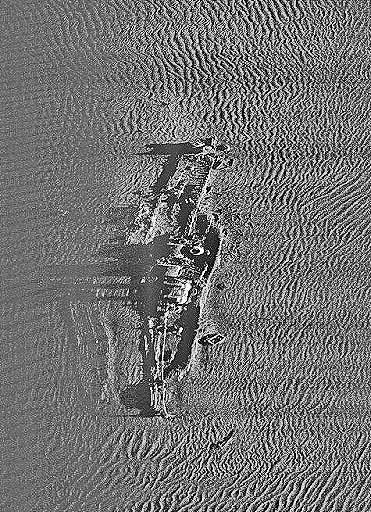ship: (120, 132, 233, 418)
